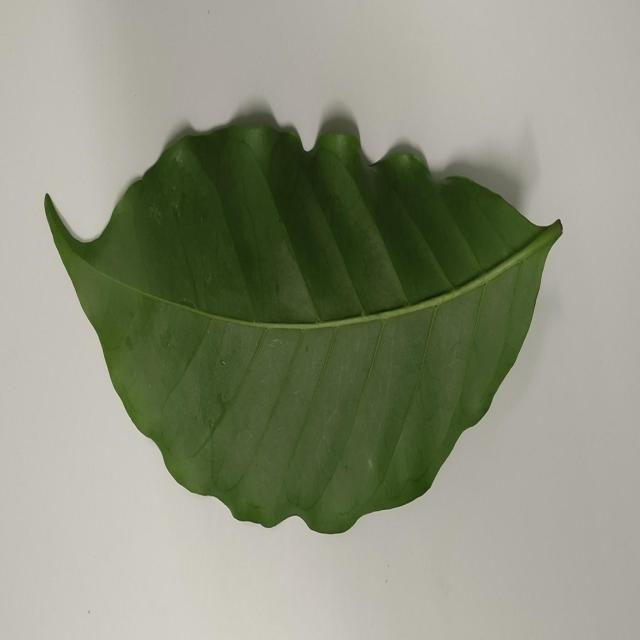Sanas: (42, 100, 563, 538)
